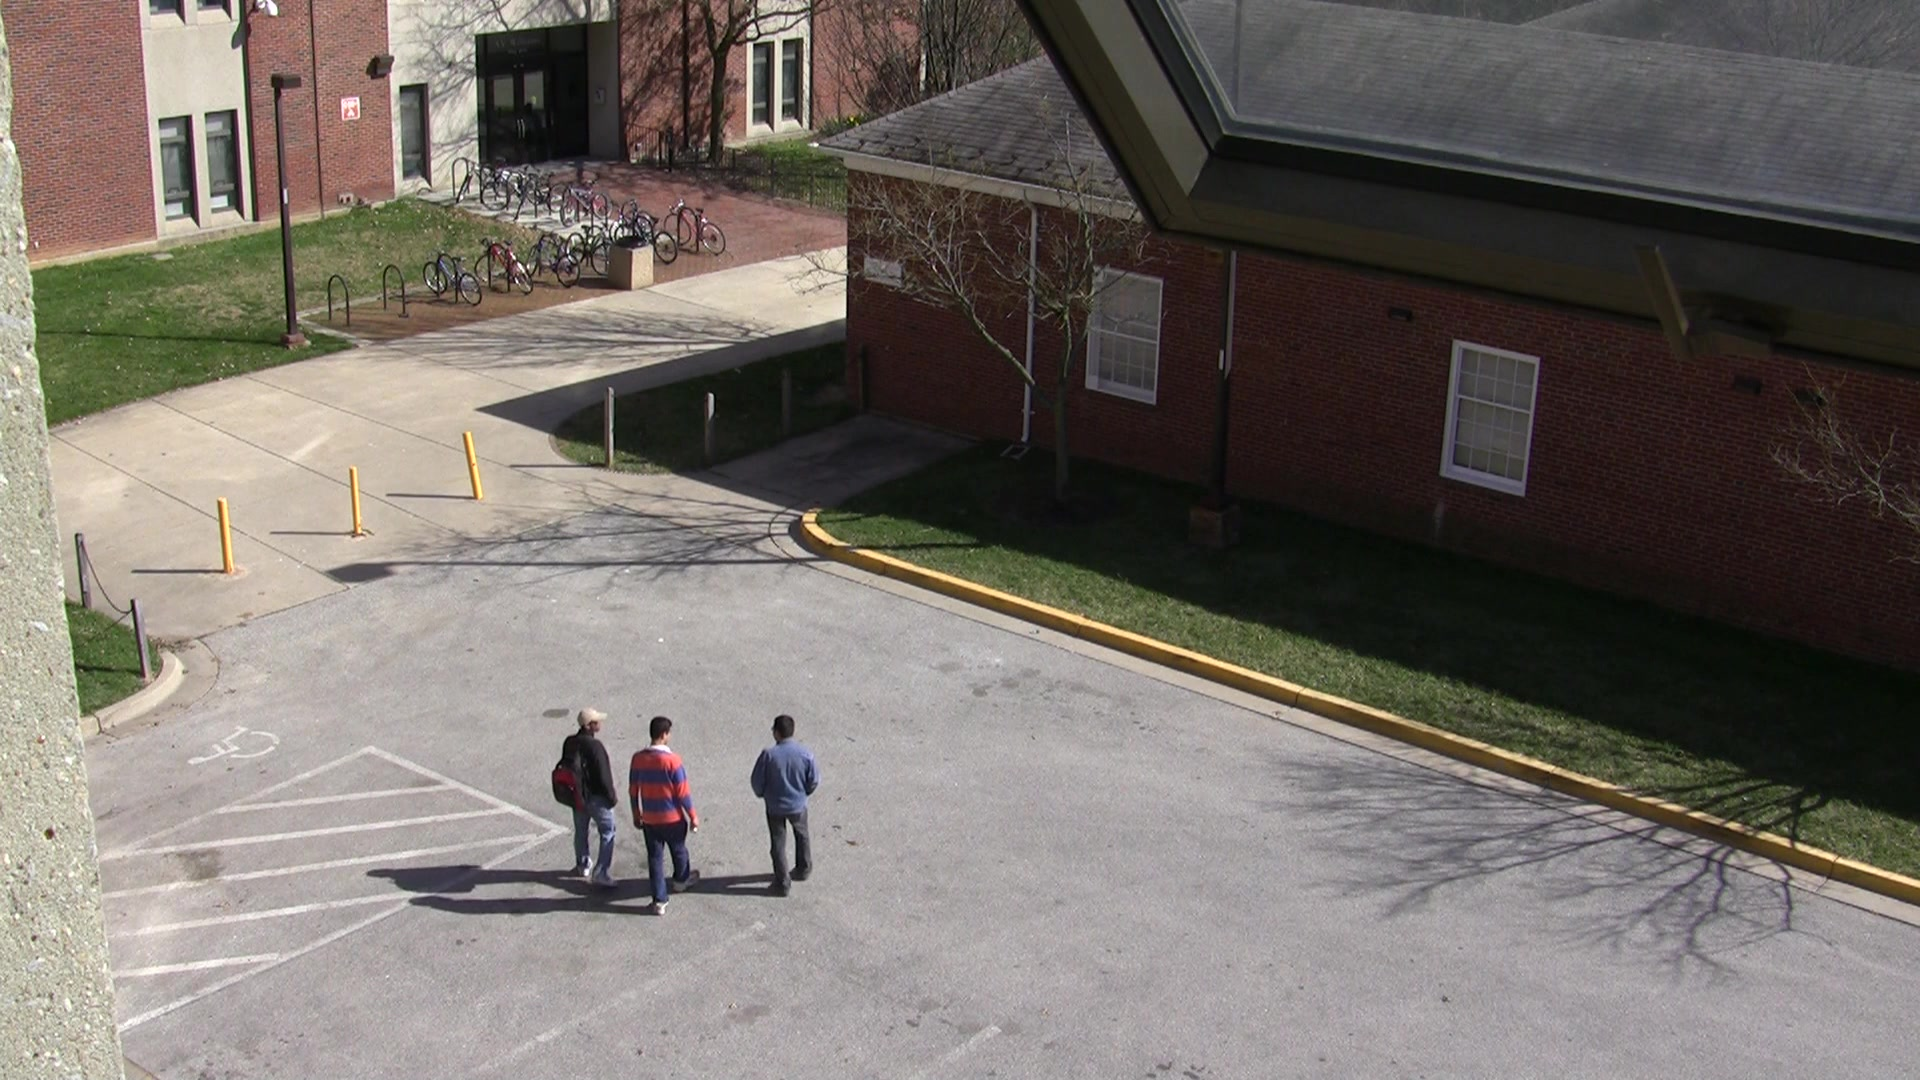person: (725, 703, 854, 897), (619, 703, 731, 922), (538, 693, 644, 895)
